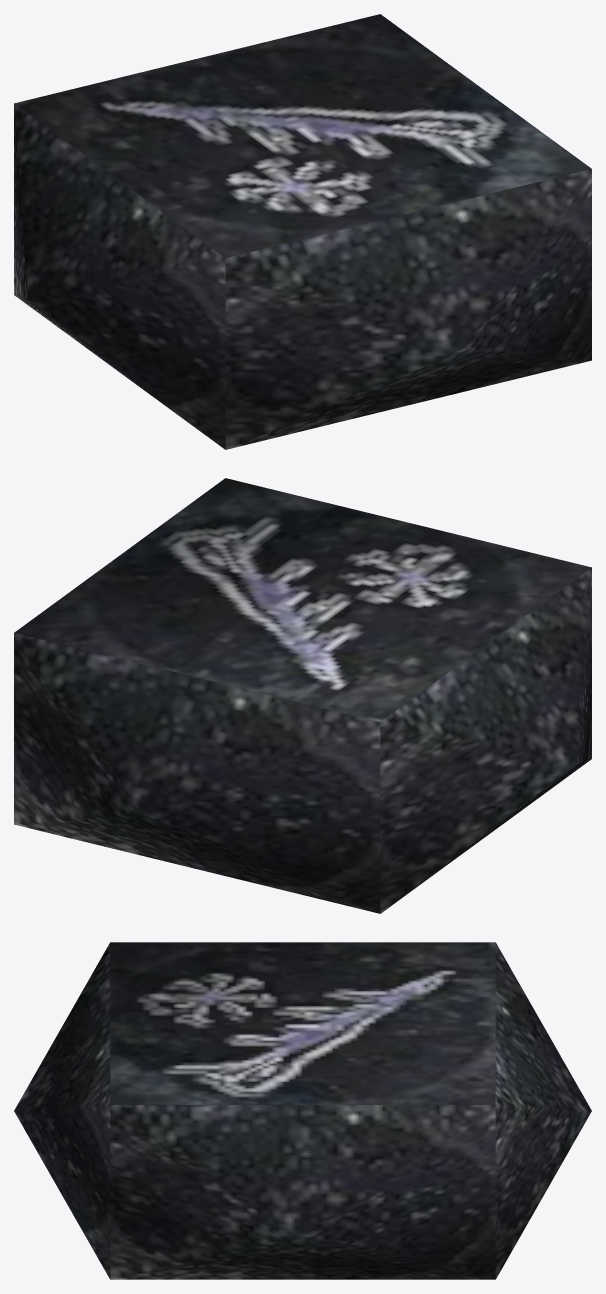
Rendered from ITRU_WATER04.glb.
The picture shows the model from 3 angles, top to bottom: view 1: azimuth 30°, elevation 25°; view 2: azimuth 150°, elevation 25°; view 3: azimuth 270°, elevation 25°; orthographic projection. The views are drawn at different scales.
Visible parts, largest first — view 1: Mesh; view 2: Mesh; view 3: Mesh.
Part boxes in pixels (box(x1,y1,x2,y2)): Mesh: box(14, 14, 591, 449); Mesh: box(14, 478, 591, 913); Mesh: box(14, 942, 591, 1279).
Bounding box in the file's own units: 0.27 × 0.09 × 0.27.
1 material, 1 textured.
